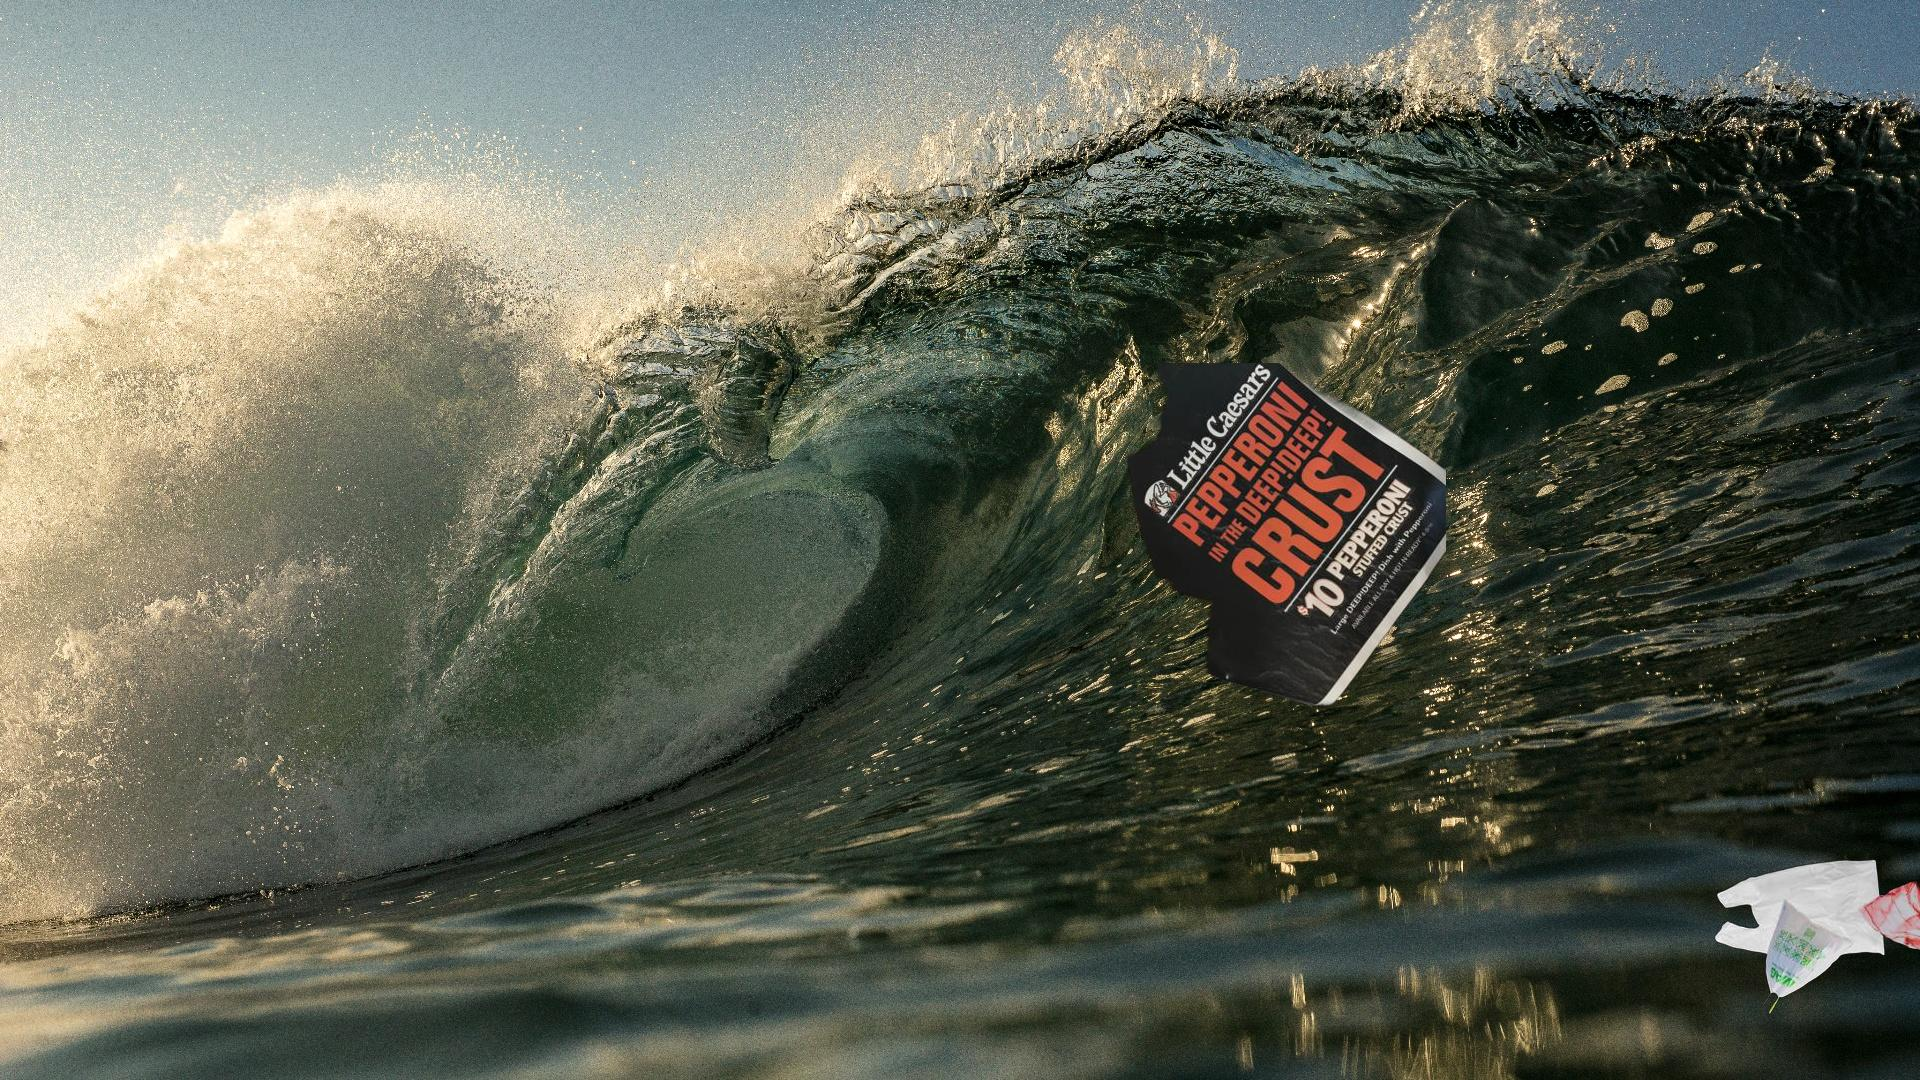paper: (934, 363, 1447, 709)
plastic-bag: (1712, 856, 1920, 1015)
